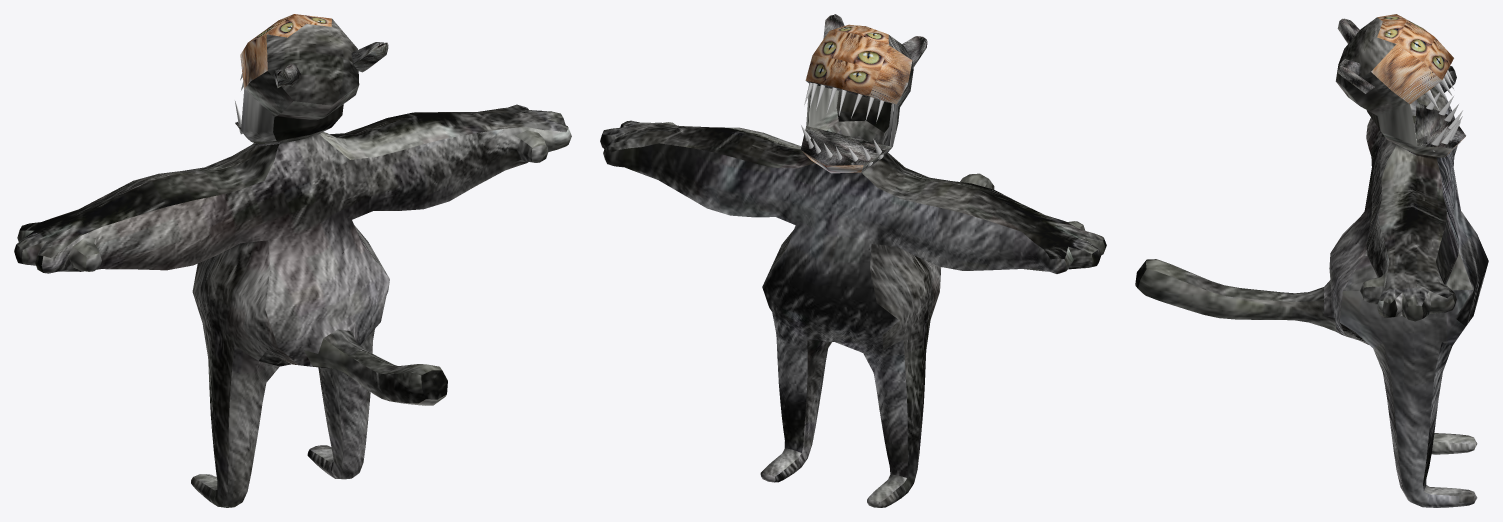
Rendered from enemykill.fbx.
The picture shows the model from 3 angles, left to right: view 1: azimuth 30°, elevation 25°; view 2: azimuth 150°, elevation 25°; view 3: azimuth 270°, elevation 25°; orthographic projection. The views are drawn at different scales.
Parts seen in each view (by area): view 1: Plane, Cube; view 2: Plane; view 3: Plane, Cube.
Part boxes in pixels (x1,y1,x2,y2): Plane: (14,14,571,507); Cube: (351,42,388,72); Plane: (600,24,1106,507); Plane: (1135,14,1488,507); Cube: (1337,59,1374,93).
Size of the model in its own units: 381 by 323 by 226.
